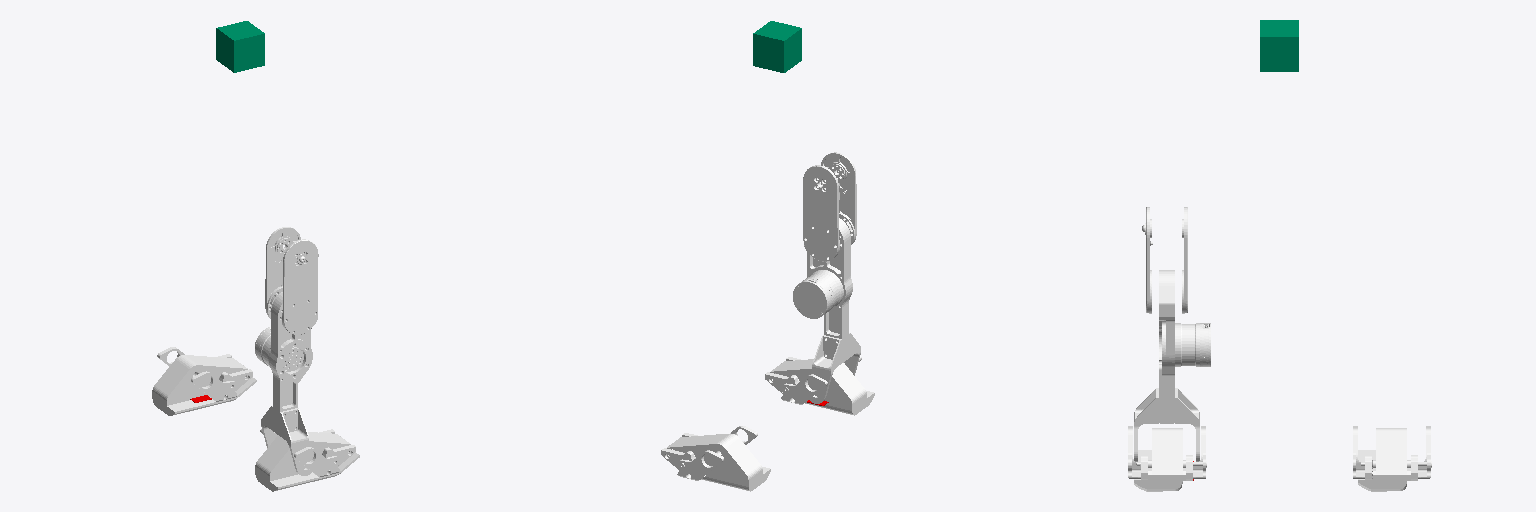
robot.urdf — fairy:
<?xml version="1.0" ?>
<!-- =================================================================================== -->
<!-- |    This document was autogenerated by xacro from fairy.urdf.xacro               | -->
<!-- |    EDITING THIS FILE BY HAND IS NOT RECOMMENDED                                 | -->
<!-- =================================================================================== -->
<robot name="fairy">
  <!-- link rviz colors -->
  <material name="White">
    <color rgba="1 1 1 1"/>
  </material>
  <material name="Black">
    <color rgba="0 0 0 1"/>
  </material>
  <material name="Red">
    <color rgba="1 0 0 1"/>
  </material>
  <!-- new base link -->
  <link name="base_link">
    </link>
  <!-- joint between base_link and body_link -->
  <joint name="base_to_body" type="fixed">
    <origin rpy="0 0 0" xyz="0 0 0"/>
    <parent link="base_link"/>
    <child link="body_link"/>
  </joint>
  <!-- body link -->
  <link name="body_link">
    <visual>
      <origin rpy="0 0 0" xyz="0 0 0"/>
      <geometry>
        <mesh filename="../meshes/BASE.STL" scale="1 1 1"/>
        <!-- <mesh filename="../meshes/base.stl" scale="0.001 0.001 0.001"/> -->
      </geometry>
      <material name="White"/>
    </visual>
    <collision>
      <origin rpy="0 0 0" xyz="0 0 0"/>
      <geometry>
        <mesh filename="../meshes/BASE.STL" scale="1 1 1"/>
      </geometry>
    </collision>
    <inertial>
      <mass value="12.72349"/>
      <origin rpy="0 0 0" xyz="-0.00 0.00 -0.00474"/>
      <inertia ixx="0.1" ixy="0.0000" ixz="0.000000" iyy="0.1" iyz="0.0" izz="0.1"/>
    </inertial>
  </link>
  <!-- IMU sensor -->
  <link name="imu_link">
    <inertial>
      <mass value="0.001"/>
      <origin rpy="0 0 0" xyz="0 0 0"/>
      <inertia ixx="0.000001" ixy="0.0" ixz="0.0" iyy="0.000001" iyz="0.0" izz="0.000001"/>
    </inertial>
    <visual>
      <geometry>
        <box size="0.05 0.05 0.05"/>
      </geometry>
      <origin rpy="0 0 0" xyz="0 0 0"/>
    </visual>
  </link>
  <joint name="base_to_imu" type="fixed">
    <parent link="base_link"/>
    <child link="imu_link"/>
    <origin rpy="0 0 0" xyz="0 0 0"/>
  </joint>
  <gazebo>
    <plugin filename="libgazebo_ros_imu.so" name="imu_plugin">
      <ros>
        <remapping>my_imu:=/imu/data</remapping>
      </ros>
      <alwaysOn>true</alwaysOn>
      <updateRate>50.0</updateRate>
      <bodyName>imu_link</bodyName>
      <gaussianNoise>0.0</gaussianNoise>
    </plugin>
  </gazebo>
  <!-- left forward joint -->
  <joint name="base_to_left_forward_base" type="fixed">
    <origin rpy="0 0 0" xyz="0.000 0.0800 0"/>
    <parent link="body_link"/>
    <child link="L_FOOT"/>
  </joint>
  <!-- base link -->
  <link name="L_FOOT">
    <inertial>
      <mass value="0.001"/>
      <inertia ixx="0.000000" ixy="0.000000" ixz="0.000000" iyy="0.000000" iyz="0.000000" izz="0.000000"/>
    </inertial>
  </link>
  <!-- joint 1 -->
  <joint name="L_CROTCH_R" type="revolute">
    <origin rpy="0 0 0" xyz="0 0 0.0"/>
    <axis rpy="0 0 0" xyz="1 0 0"/>
    <limit effort="1000.0" lower="-2.0943951023931953" upper="2.0943951023931953" velocity="2.0943951023931953"/>
    <parent link="L_FOOT"/>
    <child link="L1"/>
  </joint>
  <!-- link 1 -->
  <link name="L1">
    <visual>
      <origin rpy="0 0 0" xyz="0 0 0"/>
      <geometry>
        <mesh filename="../meshes/LHIP.STL"/>
      </geometry>
      <material name="White"/>
    </visual>
    <collision>
      <origin rpy="0 0 0" xyz="0 0 0"/>
      <geometry>
        <mesh filename="../meshes/LHIP.STL" scale="0.002 0.002 0.002"/>
      </geometry>
      <surface>
        <friction>
          <ode>
            <mu>1.0</mu>
            <mu2>1.0</mu2>
          </ode>
        </friction>
      </surface>
    </collision>
    <inertial>
      <origin xyz="-0.00 -0.0 0.00000"/>
      <mass value="1.23047"/>
      <inertia ixx="0.1" ixy="0.0000" ixz="0.000000" iyy="0.1" iyz="0.0" izz="0.1"/>
    </inertial>
  </link>
  <!-- joint 2 -->
  <joint name="L_CROTCH_P" type="revolute">
    <origin rpy="0 0 0" xyz="0 0.065 0"/>
    <axis rpy="0 0 0" xyz="0 1 0"/>
    <limit effort="1000.0" lower="-2.9670597283903604" upper="0.5235987755982988" velocity="2.0943951023931953"/>
    <parent link="L1"/>
    <child link="L2"/>
  </joint>
  <!-- link 2 -->
  <link name="L2">
    <visual>
      <origin rpy="0 0 0" xyz="0 0 0"/>
      <geometry>
        <mesh filename="../meshes/LULEG.STL"/>
      </geometry>
      <material name="White"/>
    </visual>
    <collision>
      <origin rpy="0 0 0" xyz="0 0 0"/>
      <geometry>
        <mesh filename="../meshes/LULEG.STL"/>
      </geometry>
      <surface>
        <friction>
          <ode>
            <mu>1.0</mu>
            <mu2>1.0</mu2>
          </ode>
        </friction>
      </surface>
    </collision>
    <inertial>
      <origin xyz="0.00006 -0.0 -0.05962"/>
      <mass value="2.06632"/>
      <inertia ixx="0.1" ixy="0.0000" ixz="0.000000" iyy="0.1" iyz="0.0" izz="0.1"/>
    </inertial>
  </link>
  <!-- joint 3 -->
  <joint name="L_KNEE_P" type="revolute">
    <axis rpy="0 0 0" xyz="0 1 0"/>
    <limit effort="1000.0" lower="-2.0943951023931953" upper="3.141592653589793" velocity="2.0943951023931953"/>
    <origin rpy="0 0 0" xyz="0 0 -0.2600"/>
    <parent link="L2"/>
    <child link="L3"/>
  </joint>
  <!-- link 3 -->
  <link name="L3">
    <visual>
      <origin rpy="0 0 0" xyz="0 0 0"/>
      <geometry>
        <mesh filename="../meshes/LLLEG.STL"/>
      </geometry>
      <material name="White"/>
    </visual>
    <collision>
      <origin rpy="0 0 0" xyz="0 0 0"/>
      <geometry>
        <mesh filename="../meshes/LLLEG.STL"/>
      </geometry>
      <surface>
        <friction>
          <ode>
            <mu>1.0</mu>
            <mu2>1.0</mu2>
          </ode>
        </friction>
      </surface>
    </collision>
    <inertial>
      <origin xyz="0.00000 -0.00 -0.19822"/>
      <mass value="0.41492"/>
      <inertia ixx="0.1" ixy="0.0000" ixz="0.000000" iyy="0.1" iyz="0.0" izz="0.1"/>
    </inertial>
  </link>
  <!-- joint 4 -->
  <joint name="L_TOE_P" type="revolute">
    <axis rpy="0 0 0" xyz="0 1 0"/>
    <limit effort="1000.0" lower="-2.0943951023931953" upper="2.0943951023931953" velocity="2.0943951023931953"/>
    <origin rpy="0 0 0" xyz="0 0 -0.30056"/>
    <parent link="L3"/>
    <child link="L4"/>
  </joint>
  <!-- link 4 -->
  <link name="L4">
    <visual>
      <origin rpy="0 0 0" xyz="0 0 0"/>
      <geometry>
        <mesh filename="../meshes/LTOE.STL"/>
      </geometry>
      <material name="White"/>
    </visual>
    <collision>
      <origin rpy="0 0 0" xyz="0 0 0"/>
      <geometry>
        <mesh filename="../meshes/LTOE.STL"/>
      </geometry>
      <surface>
        <friction>
          <ode>
            <mu>1.0</mu>
            <mu2>1.0</mu2>
          </ode>
        </friction>
      </surface>
    </collision>
    <inertial>
      <origin xyz="0.00000 -0.00 -0.04246"/>
      <mass value="0.001"/>
      <inertia ixx="0.1" ixy="0.0000" ixz="0.000000" iyy="0.1" iyz="0.0" izz="0.1"/>
    </inertial>
  </link>
  <!-- tip link with spring-damper system -->
  <joint name="L_TIP" type="fixed">
    <origin rpy="0 0 0" xyz="0.0 0 -0.035"/>
    <parent link="L4"/>
    <child link="L_TIP"/>
    <dynamics damping="0.05" spring_stiffness="1000.0"/>
  </joint>
  <link name="L_TIP">
    <visual>
      <origin rpy="0 0 0" xyz="0.02 -0.01 0"/>
      <geometry>
        <box size="0.06 0.05 0.001"/>
      </geometry>
      <material name="Red"/>
    </visual>
    <collision>
      <origin rpy="0 0 0" xyz="0 0 0"/>
      <geometry>
        <box size="0.06 0.05 0.001"/>
      </geometry>
      <surface>
        <friction>
          <ode>
            <mu>1.5</mu>
            <mu2>1.5</mu2>
          </ode>
        </friction>
      </surface>
    </collision>
    <inertial>
      <origin xyz="0 0 0"/>
      <mass value="0.001"/>
      <inertia ixx="0.0001" ixy="0.0001" ixz="0.0001" iyy="0.0001" iyz="0.0001" izz="0.0001"/>
    </inertial>
  </link>
  <gazebo reference="L_TIP">
    <material>Gazebo/Red</material>
    <kp>1000000.0</kp>
    <kd>100.0</kd>
    <mu1>1.5</mu1>
    <mu2>1.5</mu2>
    <fdir1>1 0 0</fdir1>
    <maxVel>1.0</maxVel>
    <minDepth>0.001</minDepth>
  </gazebo>
  <!-- transmissions -->
  <transmission name="L_transmission1">
    <type>transmission_interface/SimpleTransmission</type>
    <joint name="L_CROTCH_R">
      <!-- <hardwareInterface>hardware_interface/PositionJointInterface</hardwareInterface> -->
      <hardwareInterface>hardware_interface/EffortJointInterface</hardwareInterface>
    </joint>
    <actuator name="L_actuator1">
      <mechanicalReduction>1</mechanicalReduction>
    </actuator>
  </transmission>
  <transmission name="L_transmission2">
    <type>transmission_interface/SimpleTransmission</type>
    <joint name="L_CROTCH_P">
      <!-- <hardwareInterface>hardware_interface/PositionJointInterface</hardwareInterface> -->
      <hardwareInterface>hardware_interface/EffortJointInterface</hardwareInterface>
    </joint>
    <actuator name="L_actuator2">
      <mechanicalReduction>1</mechanicalReduction>
    </actuator>
  </transmission>
  <transmission name="L_transmission3">
    <type>transmission_interface/SimpleTransmission</type>
    <joint name="L_KNEE_P">
      <!-- <hardwareInterface>hardware_interface/PositonJointInterface</hardwareInterface> -->
      <hardwareInterface>hardware_interface/EffortJointInterface</hardwareInterface>
    </joint>
    <actuator name="L_actuator3">
      <mechanicalReduction>1</mechanicalReduction>
    </actuator>
  </transmission>
  <transmission name="L_transmission4">
    <type>transmission_interface/SimpleTransmission</type>
    <joint name="L_TOE_P">
      <!-- <hardwareInterface>hardware_interface/PositonJointInterface</hardwareInterface> -->
      <hardwareInterface>hardware_interface/EffortJointInterface</hardwareInterface>
    </joint>
    <actuator name="L_actuator4">
      <mechanicalReduction>1</mechanicalReduction>
    </actuator>
  </transmission>
  <!-- right forward joint -->
  <joint name="base_to_right_forward_base" type="fixed">
    <origin rpy="0 0 0" xyz="0.000 -0.0800 0"/>
    <parent link="body_link"/>
    <child link="R_FOOT"/>
  </joint>
  <!-- base link -->
  <link name="R_FOOT">
    <inertial>
      <mass value="0.001"/>
      <inertia ixx="0.000000" ixy="0.000000" ixz="0.000000" iyy="0.000000" iyz="0.000000" izz="0.000000"/>
    </inertial>
  </link>
  <!-- joint 1 -->
  <joint name="R_CROTCH_R" type="revolute">
    <origin rpy="0 0 0" xyz="0 0 0.0"/>
    <axis rpy="0 0 0" xyz="1 0 0"/>
    <limit effort="1000.0" lower="-2.0943951023931953" upper="2.0943951023931953" velocity="2.0943951023931953"/>
    <parent link="R_FOOT"/>
    <child link="R1"/>
  </joint>
  <!-- link 1 -->
  <link name="R1">
    <visual>
      <origin rpy="0 0 0" xyz="0 0 0"/>
      <geometry>
        <mesh filename="../meshes/RHIP.STL"/>
      </geometry>
      <material name="White"/>
    </visual>
    <collision>
      <origin rpy="0 0 0" xyz="0 0 0"/>
      <geometry>
        <mesh filename="../meshes/RHIP.STL" scale="0.002 0.002 0.002"/>
      </geometry>
      <surface>
        <friction>
          <ode>
            <mu>1.0</mu>
            <mu2>1.0</mu2>
          </ode>
        </friction>
      </surface>
    </collision>
    <inertial>
      <origin xyz="-0.00 -0.0 0.00000"/>
      <mass value="1.23047"/>
      <inertia ixx="0.1" ixy="0.0000" ixz="0.000000" iyy="0.1" iyz="0.0" izz="0.1"/>
    </inertial>
  </link>
  <!-- joint 2 -->
  <joint name="R_CROTCH_P" type="revolute">
    <origin rpy="0 0 0" xyz="0 -0.065  0"/>
    <axis rpy="0 0 0" xyz="0 1 0"/>
    <limit effort="1000.0" lower="-2.9670597283903604" upper="0.5235987755982988" velocity="2.0943951023931953"/>
    <parent link="R1"/>
    <child link="R2"/>
  </joint>
  <!-- link 2 -->
  <link name="R2">
    <visual>
      <origin rpy="0 0 0" xyz="0 0 0"/>
      <geometry>
        <mesh filename="../meshes/RULEG.STL"/>
      </geometry>
      <material name="White"/>
    </visual>
    <collision>
      <origin rpy="0 0 0" xyz="0 0 0"/>
      <geometry>
        <mesh filename="../meshes/RULEG.STL"/>
      </geometry>
      <surface>
        <friction>
          <ode>
            <mu>1.0</mu>
            <mu2>1.0</mu2>
          </ode>
        </friction>
      </surface>
    </collision>
    <inertial>
      <origin xyz="0.00006 -0.0 -0.05962"/>
      <mass value="2.06632"/>
      <inertia ixx="0.1" ixy="0.0000" ixz="0.000000" iyy="0.1" iyz="0.0" izz="0.1"/>
    </inertial>
  </link>
  <!-- joint 3 -->
  <joint name="R_KNEE_P" type="revolute">
    <axis rpy="0 0 0" xyz="0 1 0"/>
    <limit effort="1000.0" lower="-2.0943951023931953" upper="3.141592653589793" velocity="2.0943951023931953"/>
    <origin rpy="0 0 0" xyz="0 0 -0.2600"/>
    <parent link="R2"/>
    <child link="R3"/>
  </joint>
  <!-- link 3 -->
  <link name="R3">
    <visual>
      <origin rpy="0 0 0" xyz="0 0 0"/>
      <geometry>
        <mesh filename="../meshes/RLLEG.STL"/>
      </geometry>
      <material name="White"/>
    </visual>
    <collision>
      <origin rpy="0 0 0" xyz="0 0 0"/>
      <geometry>
        <mesh filename="../meshes/RLLEG.STL"/>
      </geometry>
      <surface>
        <friction>
          <ode>
            <mu>1.0</mu>
            <mu2>1.0</mu2>
          </ode>
        </friction>
      </surface>
    </collision>
    <inertial>
      <origin xyz="0.00000 -0.00 -0.19822"/>
      <mass value="0.41492"/>
      <inertia ixx="0.1" ixy="0.0000" ixz="0.000000" iyy="0.1" iyz="0.0" izz="0.1"/>
    </inertial>
  </link>
  <!-- joint 4 -->
  <joint name="R_TOE_P" type="revolute">
    <axis rpy="0 0 0" xyz="0 1 0"/>
    <limit effort="1000.0" lower="-2.0943951023931953" upper="2.0943951023931953" velocity="2.0943951023931953"/>
    <origin rpy="0 0 0" xyz="0 0 -0.30056"/>
    <parent link="R3"/>
    <child link="R4"/>
  </joint>
  <!-- link 4 -->
  <link name="R4">
    <visual>
      <origin rpy="0 0 0" xyz="0 0 0"/>
      <geometry>
        <mesh filename="../meshes/RTOE.STL"/>
      </geometry>
      <material name="White"/>
    </visual>
    <collision>
      <origin rpy="0 0 0" xyz="0 0 0"/>
      <geometry>
        <mesh filename="../meshes/RTOE.STL"/>
      </geometry>
      <surface>
        <friction>
          <ode>
            <mu>1.0</mu>
            <mu2>1.0</mu2>
          </ode>
        </friction>
      </surface>
    </collision>
    <inertial>
      <origin xyz="0.00000 -0.00 -0.04246"/>
      <mass value="0.001"/>
      <inertia ixx="0.1" ixy="0.0000" ixz="0.000000" iyy="0.1" iyz="0.0" izz="0.1"/>
    </inertial>
  </link>
  <!-- tip link with spring-damper system -->
  <joint name="R_TIP" type="fixed">
    <origin rpy="0 0 0" xyz="0.0 0 -0.035"/>
    <parent link="R4"/>
    <child link="R_TIP"/>
    <dynamics damping="0.05" spring_stiffness="1000.0"/>
  </joint>
  <link name="R_TIP">
    <visual>
      <origin rpy="0 0 0" xyz="0.02 0.01  0"/>
      <geometry>
        <box size="0.06 0.05 0.001"/>
      </geometry>
      <material name="Red"/>
    </visual>
    <collision>
      <origin rpy="0 0 0" xyz="0 0 0"/>
      <geometry>
        <box size="0.06 0.05 0.001"/>
      </geometry>
      <surface>
        <friction>
          <ode>
            <mu>1.5</mu>
            <mu2>1.5</mu2>
          </ode>
        </friction>
      </surface>
    </collision>
    <inertial>
      <origin xyz="0 0 0"/>
      <mass value="0.001"/>
      <inertia ixx="0.0001" ixy="0.0001" ixz="0.0001" iyy="0.0001" iyz="0.0001" izz="0.0001"/>
    </inertial>
  </link>
  <gazebo reference="R_TIP">
    <material>Gazebo/Red</material>
    <kp>1000000.0</kp>
    <kd>100.0</kd>
    <mu1>1.5</mu1>
    <mu2>1.5</mu2>
    <fdir1>1 0 0</fdir1>
    <maxVel>1.0</maxVel>
    <minDepth>0.001</minDepth>
  </gazebo>
  <!-- transmissions -->
  <transmission name="R_transmission1">
    <type>transmission_interface/SimpleTransmission</type>
    <joint name="R_CROTCH_R">
      <!-- <hardwareInterface>hardware_interface/PositionJointInterface</hardwareInterface> -->
      <hardwareInterface>hardware_interface/EffortJointInterface</hardwareInterface>
    </joint>
    <actuator name="R_actuator1">
      <mechanicalReduction>1</mechanicalReduction>
    </actuator>
  </transmission>
  <transmission name="R_transmission2">
    <type>transmission_interface/SimpleTransmission</type>
    <joint name="R_CROTCH_P">
      <!-- <hardwareInterface>hardware_interface/PositionJointInterface</hardwareInterface> -->
      <hardwareInterface>hardware_interface/EffortJointInterface</hardwareInterface>
    </joint>
    <actuator name="R_actuator2">
      <mechanicalReduction>1</mechanicalReduction>
    </actuator>
  </transmission>
  <transmission name="R_transmission3">
    <type>transmission_interface/SimpleTransmission</type>
    <joint name="R_KNEE_P">
      <!-- <hardwareInterface>hardware_interface/PositonJointInterface</hardwareInterface> -->
      <hardwareInterface>hardware_interface/EffortJointInterface</hardwareInterface>
    </joint>
    <actuator name="R_actuator3">
      <mechanicalReduction>1</mechanicalReduction>
    </actuator>
  </transmission>
  <transmission name="R_transmission4">
    <type>transmission_interface/SimpleTransmission</type>
    <joint name="R_TOE_P">
      <!-- <hardwareInterface>hardware_interface/PositonJointInterface</hardwareInterface> -->
      <hardwareInterface>hardware_interface/EffortJointInterface</hardwareInterface>
    </joint>
    <actuator name="R_actuator4">
      <mechanicalReduction>1</mechanicalReduction>
    </actuator>
  </transmission>
  <gazebo>
    <plugin filename="libgazebo_ros_control.so" name="gazebo_ros_control">
      <robotNamespace>/fairy</robotNamespace>
    </plugin>
  </gazebo>
</robot>

--- Render facts (derived) ---
Views: 3 orthographic renders of the robot side by side, from view 1: azimuth 30°, elevation 25°; view 2: azimuth 150°, elevation 25°; view 3: azimuth 270°, elevation 25°.
Model fairy with 15 links and 14 joints (8 revolute, 6 fixed), rooted at base_link, posed all joints at 0.
Visible links, largest first — view 1: R3, L4, R4, imu_link; view 2: R3, L4, R4, imu_link; view 3: R3, L4, R4, imu_link.
Link boxes in pixels (<box>): R3: <box>255,227,318,475</box>; L4: <box>152,347,256,415</box>; R4: <box>255,429,359,491</box>; imu_link: <box>216,21,264,72</box>; R3: <box>793,152,860,403</box>; L4: <box>661,426,770,491</box>; R4: <box>765,356,874,415</box>; imu_link: <box>753,21,801,72</box>; R3: <box>1134,207,1210,461</box>; L4: <box>1353,426,1431,491</box>; R4: <box>1128,426,1206,491</box>; imu_link: <box>1260,20,1298,71</box>.
Bounding box of the posed robot: 0.133 × 0.3921 × 0.6354 m (x, y, z).
3 mesh visuals loaded from 9 distinct referenced files (3 binary STL); not drawn: 6 (reference not matched to a file when rendering).
